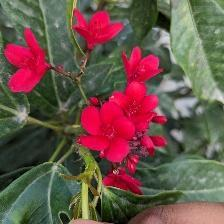jatropha: (78, 102, 139, 163), (5, 26, 50, 96), (73, 6, 126, 49)
